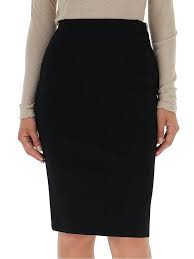F_tailored skirt: (29, 22, 172, 246)
